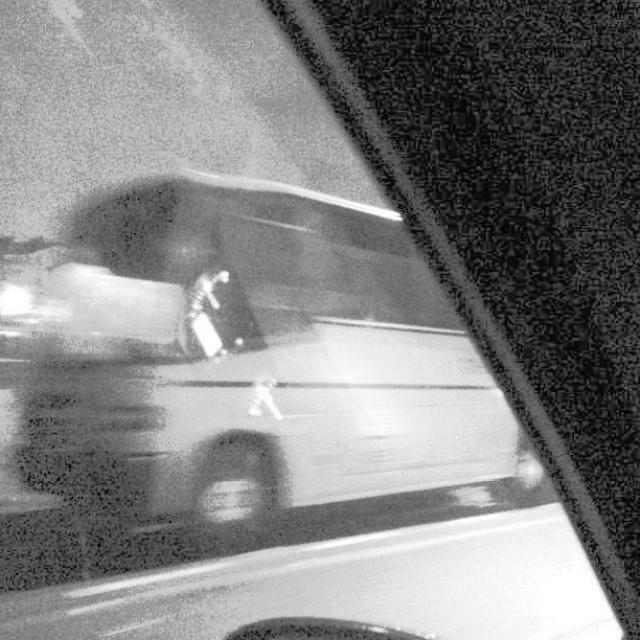Bus: (0, 168, 542, 578)
